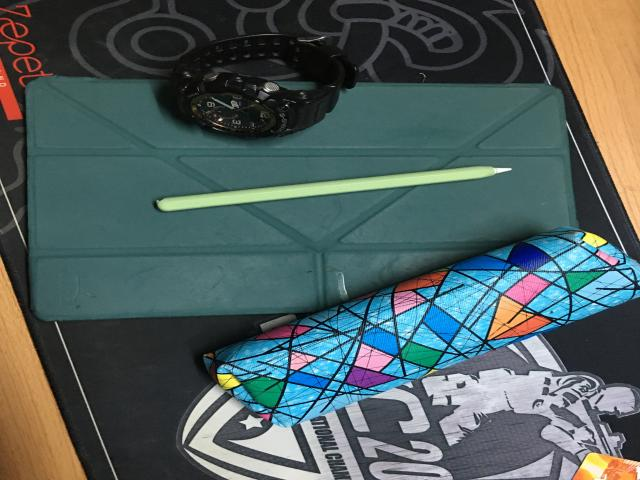Watch: (172, 34, 358, 138)
